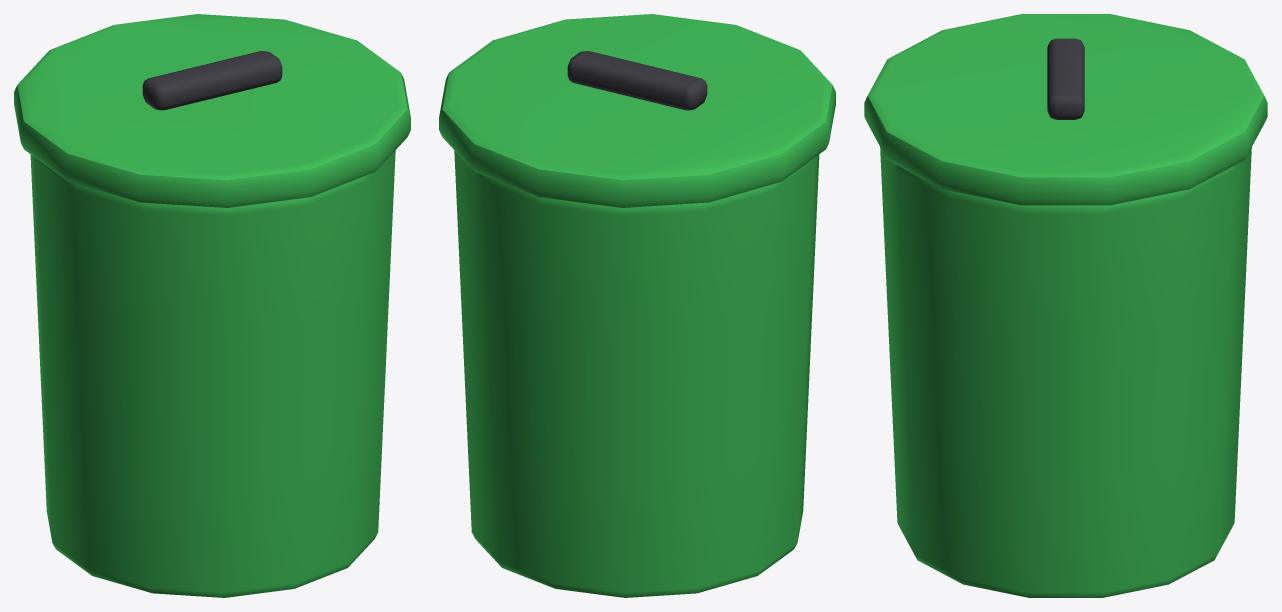
Rendered from TrashCan.fbx.
The picture shows the model from 3 angles, left to right: view 1: azimuth 30°, elevation 25°; view 2: azimuth 150°, elevation 25°; view 3: azimuth 270°, elevation 25°; orthographic projection.
Parts seen in each view (by area): view 1: TrashCan; view 2: TrashCan; view 3: TrashCan.
Boxes of the visible parts, x1,y1,x2,y2 form: TrashCan: (14,14,410,597); TrashCan: (439,14,835,597); TrashCan: (864,14,1267,597).
Size of the model in its own units: 2.11 by 2.76 by 2.16.
Materials: 1 (1 with a texture image).
